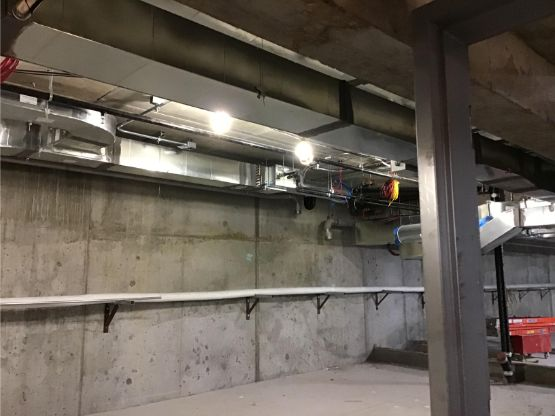Duct: (1, 10, 552, 212), (349, 193, 555, 264)
